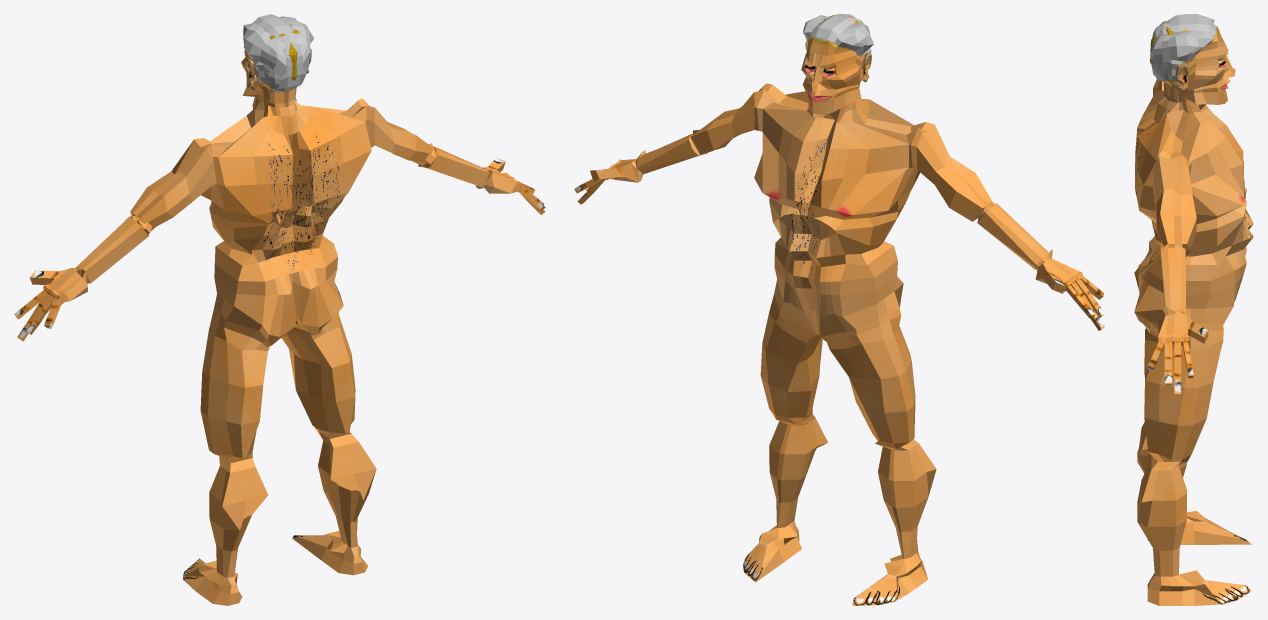
The model's file is PatrickModel.fbx.
The picture shows the model from 3 angles, left to right: view 1: azimuth 30°, elevation 25°; view 2: azimuth 150°, elevation 25°; view 3: azimuth 270°, elevation 25°; orthographic projection.
Visible parts, largest first — view 1: Body, Hair; view 2: Body, Hair; view 3: Body, Hair.
Part boxes in pixels (box(x1,y1,x2,y2)): Body: box(14, 23, 545, 605); Hair: box(243, 14, 314, 92); Body: box(574, 14, 1105, 605); Hair: box(803, 14, 873, 55); Body: box(1134, 20, 1253, 605); Hair: box(1150, 14, 1216, 84).
Bounding box in the file's own units: 419 × 421 × 83.22.
